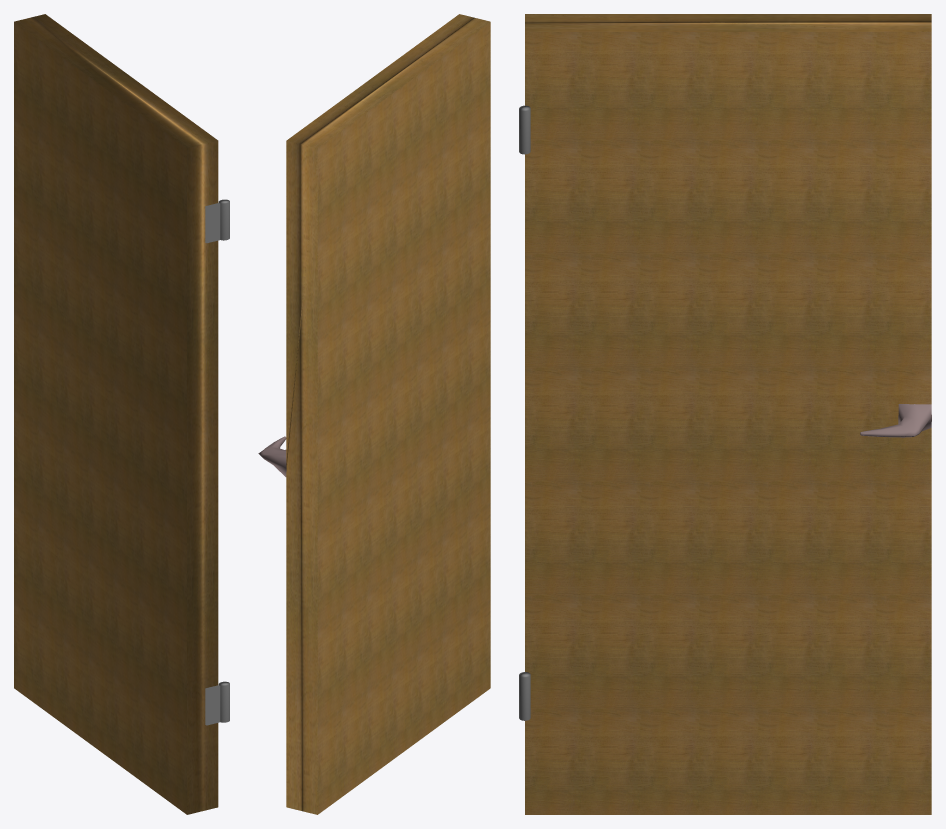
Rendered from DoorArcade.fbx.
The picture shows the model from 3 angles, left to right: view 1: azimuth 30°, elevation 25°; view 2: azimuth 150°, elevation 25°; view 3: azimuth 270°, elevation 25°; orthographic projection. The views are drawn at different scales.
Visible parts, largest first — view 1: polySurface3, polySurface2; view 2: polySurface3, polySurface4; view 3: polySurface3, polySurface4, polySurface2.
Boxes of the visible parts, left/top/right/bottom form: polySurface3: left=14, top=14, right=218, bottom=814; polySurface2: left=205, top=199, right=229, bottom=725; polySurface3: left=286, top=14, right=490, bottom=814; polySurface4: left=258, top=436, right=286, bottom=476; polySurface3: left=525, top=14, right=931, bottom=814; polySurface4: left=860, top=404, right=931, bottom=437; polySurface2: left=519, top=105, right=530, bottom=720.
Bounding box in the file's own units: 0.2652 × 2.53 × 1.21.
Materials: 3 (1 with a texture image).
